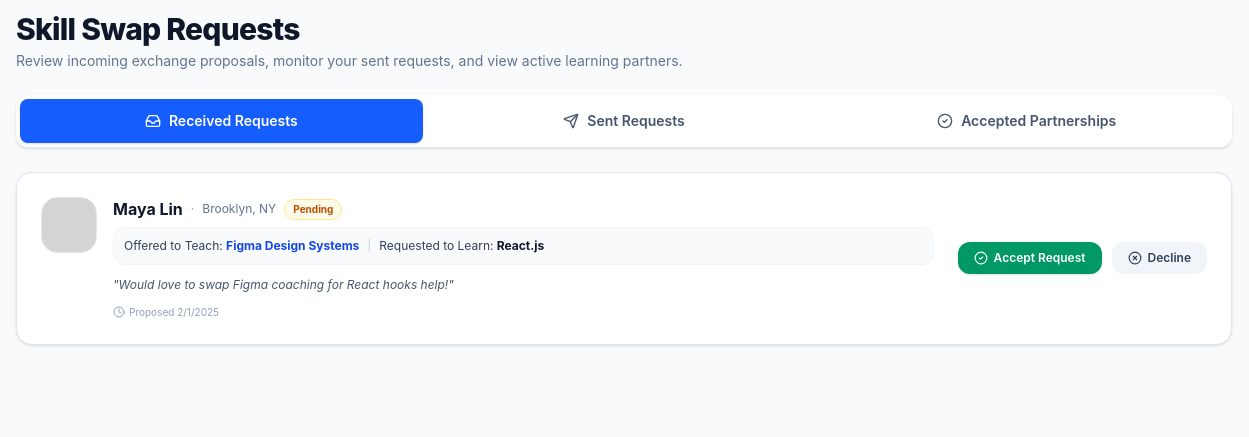
Scenario: Swap Requests Feature (SwapRequestsPage) › declines an incoming request and handles server errors cleanly
The width and height of the screenshot is (1249, 437).
Expected: the heading "Maya Lin" is shown, [113,197,183,221]
Step 1. Click the button "Decline" → (1159, 258), box [1112,242,1207,274]
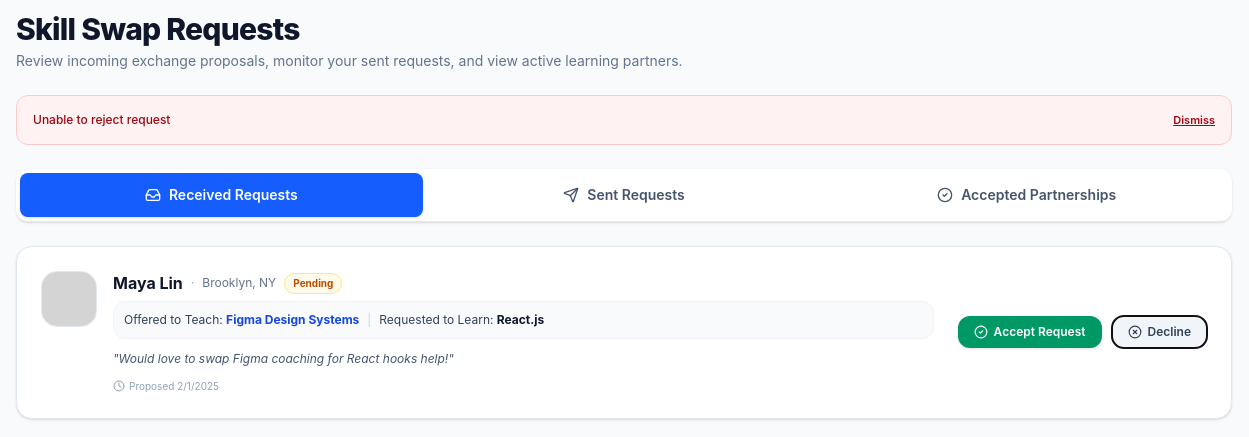
Expected: the message shows "Unable to reject request", [33,112,170,127]
